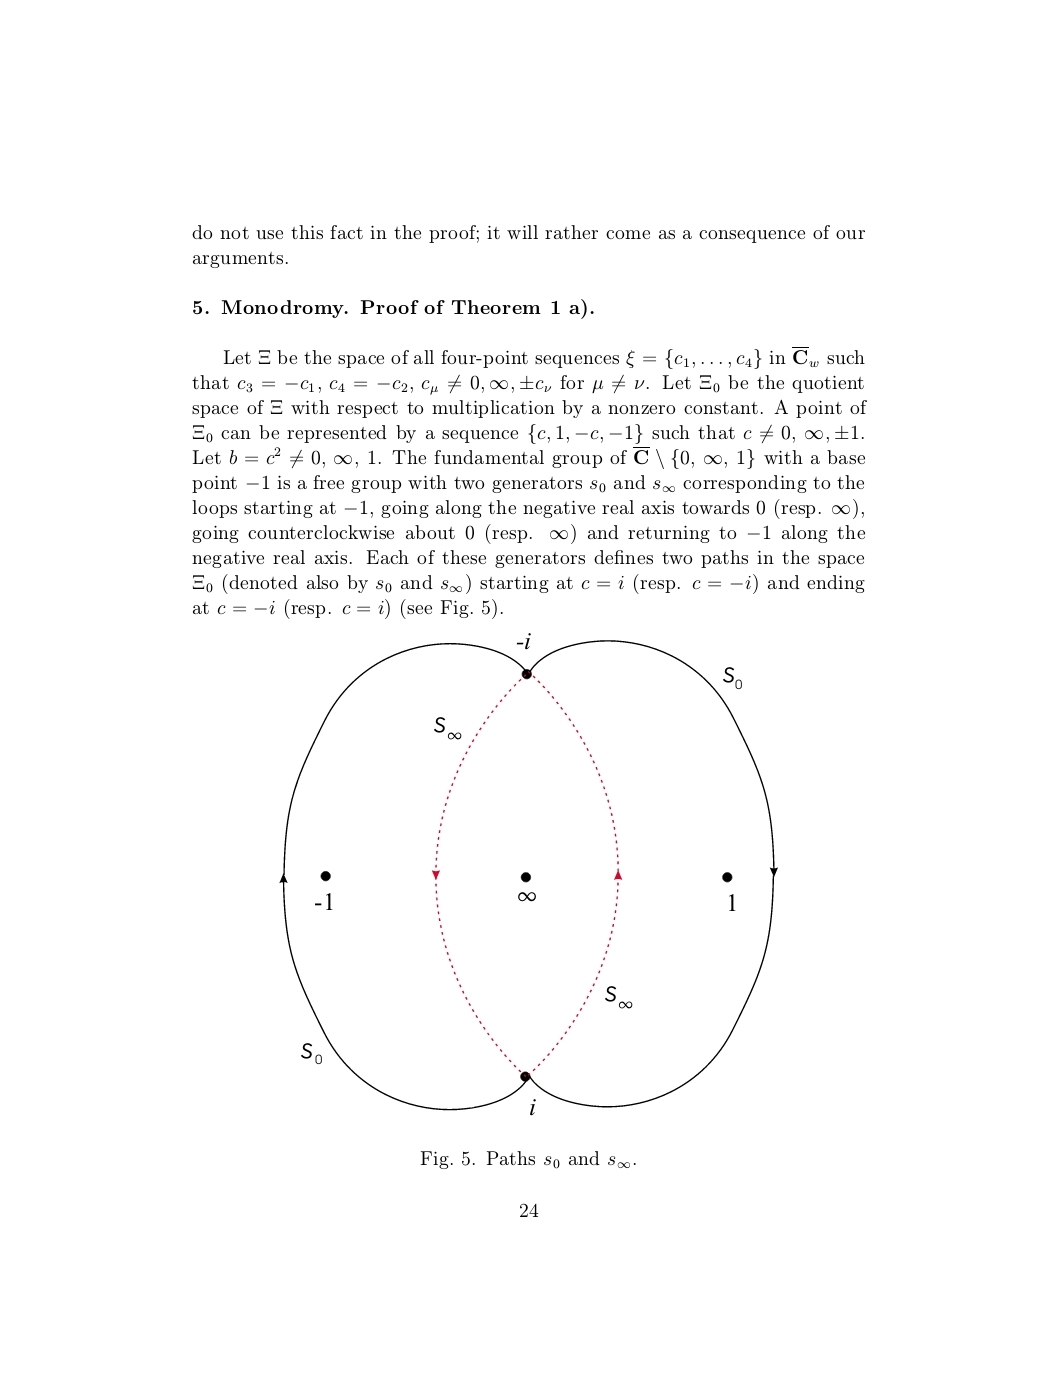figure: (279, 637, 777, 1116)
